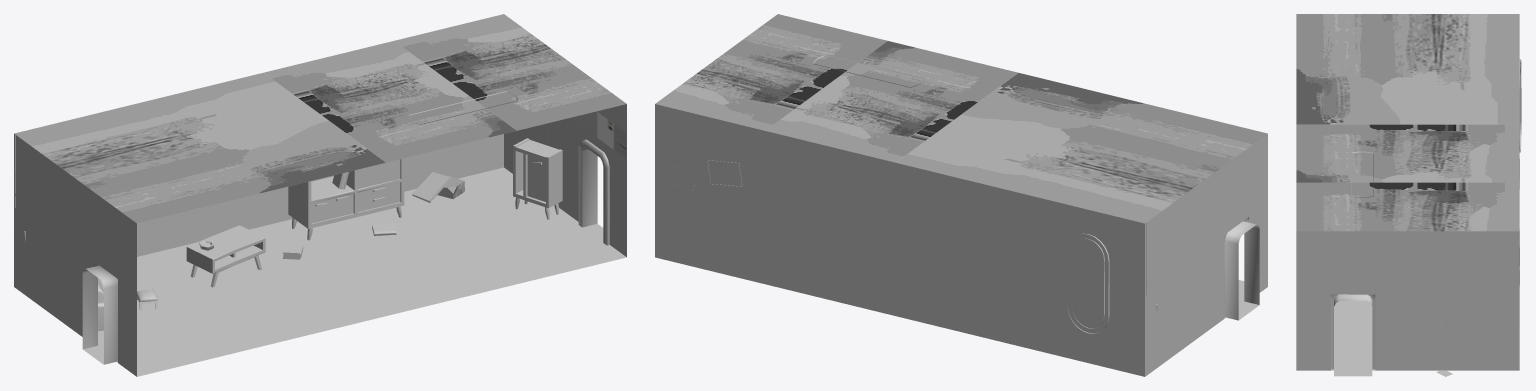
The model's file is MSH_QuestIndustrial_L6_R2_optimized.fbx.
The picture shows the model from 3 angles, left to right: view 1: azimuth 30°, elevation 25°; view 2: azimuth 150°, elevation 25°; view 3: azimuth 270°, elevation 25°; orthographic projection. The views are drawn at different scales.
Parts seen in each view (by area): view 1: lightmap1, lightmap0, MSH_QuestIndustrial_L6_R2_papers_01, MSH_QuestIndustrial_L6_R2_dirt_03; view 2: lightmap1, lightmap0; view 3: lightmap1, lightmap0, MSH_QuestIndustrial_L6_R2_papers_01.
Part boxes in pixels (x1=…): lightmap1: x1=14, y1=14, x2=626, y2=376; lightmap0: x1=24, y1=91, x2=626, y2=376; MSH_QuestIndustrial_L6_R2_papers_01: x1=100, y1=122, x2=551, y2=342; MSH_QuestIndustrial_L6_R2_dirt_03: x1=15, y1=105, x2=625, y2=266; lightmap1: x1=655, y1=14, x2=1267, y2=376; lightmap0: x1=669, y1=54, x2=1259, y2=333; lightmap1: x1=1296, y1=14, x2=1519, y2=370; lightmap0: x1=1331, y1=59, x2=1521, y2=376; MSH_QuestIndustrial_L6_R2_papers_01: x1=1334, y1=314, x2=1452, y2=376.
Size of the model in its own units: 20.7 by 6 by 8.59.
